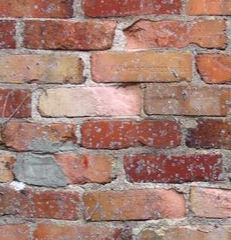brick: (119, 153, 230, 183), (89, 53, 192, 84), (82, 189, 188, 219), (79, 119, 183, 149), (22, 18, 114, 49), (145, 84, 231, 117), (38, 88, 143, 115), (133, 19, 227, 49), (1, 57, 83, 84), (82, 1, 182, 16), (188, 184, 231, 217), (1, 1, 75, 19)
